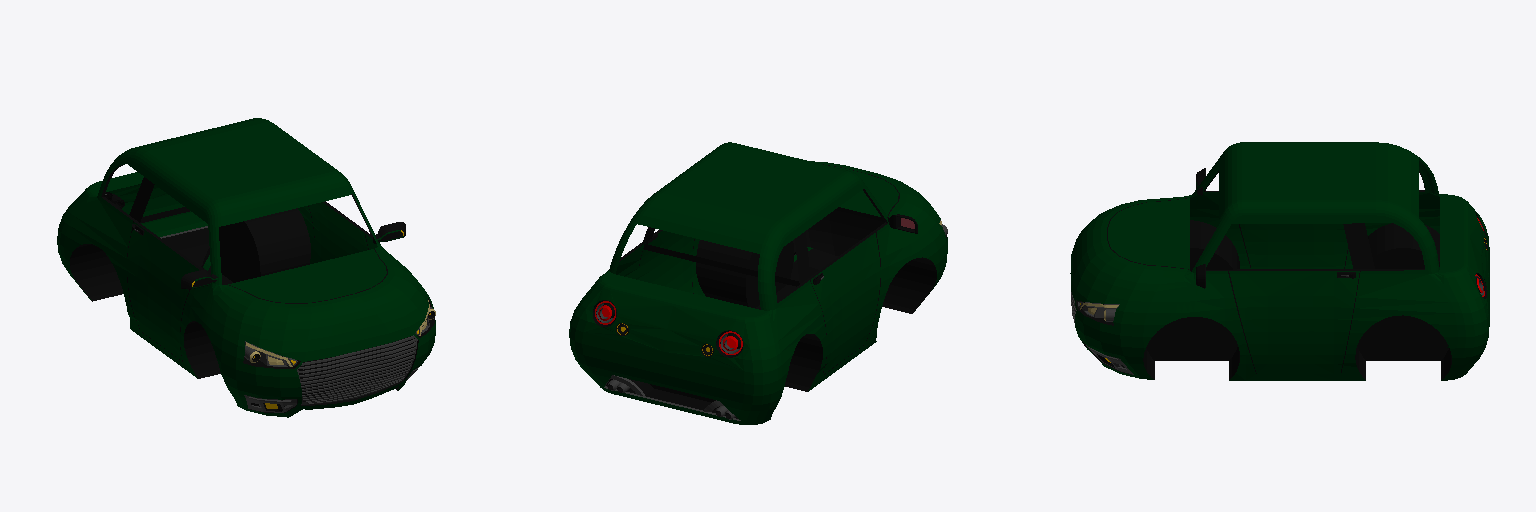
File: chassis.mtl.obj
3 renders of one model, left to right at view 1: azimuth 30°, elevation 25°; view 2: azimuth 150°, elevation 25°; view 3: azimuth 270°, elevation 25°, orthographic.
Parts seen in each view (by area): view 1: Cube; view 2: Cube; view 3: Cube.
Boxes of the visible parts, box(x1,y1,x2,y2) form: Cube: box(57, 118, 435, 417); Cube: box(569, 142, 947, 424); Cube: box(1070, 142, 1489, 380).
Size of the model in its own units: 8.79 by 6.28 by 14.16.